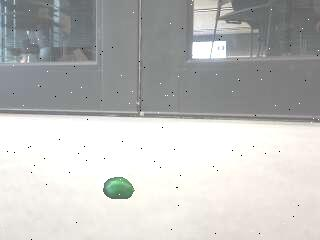Lime: (104, 177, 134, 200)
